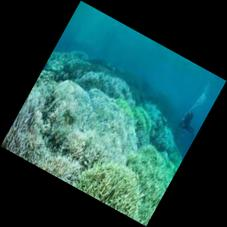bleached_corals: (1, 41, 203, 227)
